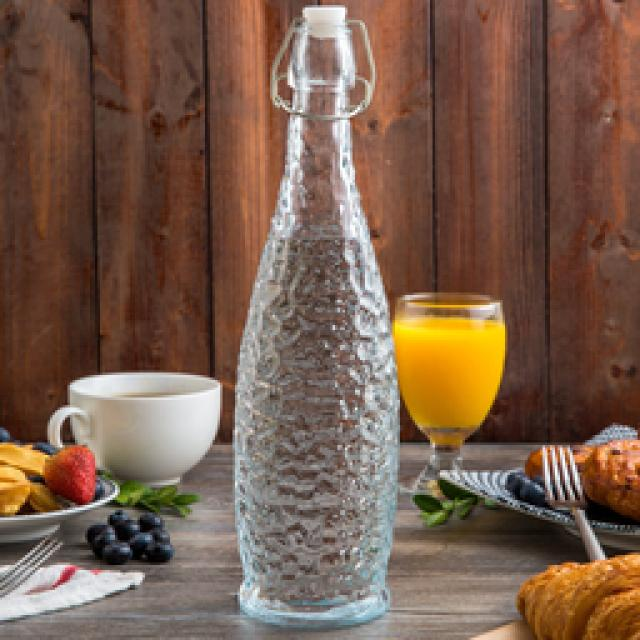glass_beverage_bottles: (238, 8, 395, 630)
